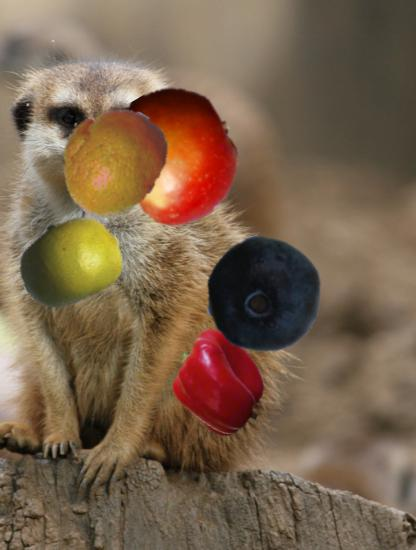Apple: (110, 85, 247, 222)
Blueberry: (208, 234, 326, 352)
Cactus: (205, 242, 317, 354)
Mandarine: (54, 104, 169, 219)
Pepper: (171, 334, 270, 433)
Pomelo: (17, 209, 123, 315)
